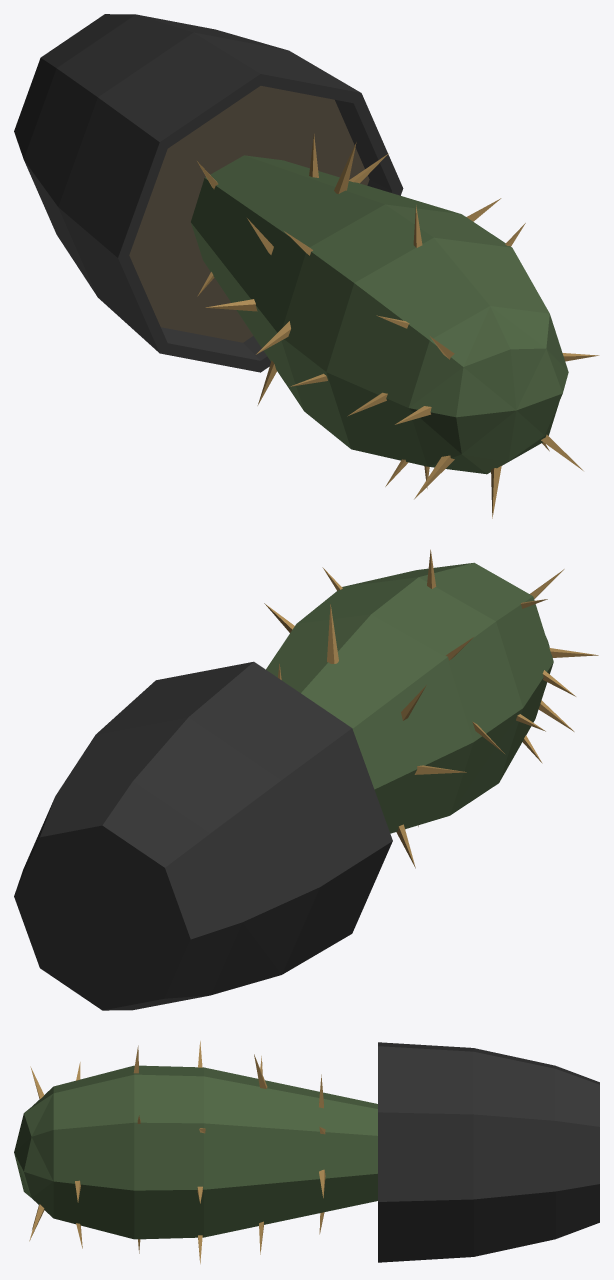
The model's file is houseplant-3.obj.
3 renders of one model, top to bottom at view 1: azimuth 30°, elevation 25°; view 2: azimuth 150°, elevation 25°; view 3: azimuth 270°, elevation 25°, orthographic. The views are drawn at different scales.
Parts seen in each view (by area): view 1: houseplant-3; view 2: houseplant-3; view 3: houseplant-3.
Boxes of the visible parts, x1=… form: houseplant-3: x1=14, y1=14, x2=599, y2=518; houseplant-3: x1=14, y1=549, x2=598, y2=1010; houseplant-3: x1=14, y1=1041, x2=599, y2=1263.
Size of the model in its own units: 12.16 by 12.01 by 30.
